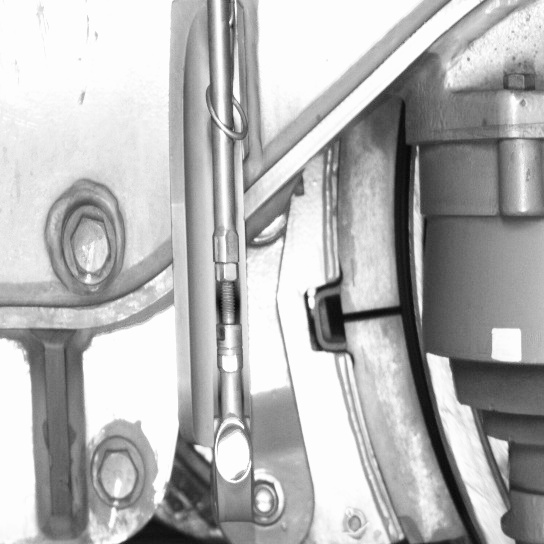KnifeSwitch: (366, 145, 489, 540)
